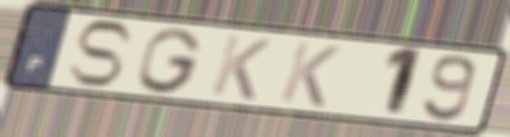1: (378, 45, 425, 122)
9: (422, 53, 479, 122)
G: (135, 25, 207, 95)
K: (206, 31, 276, 103), (276, 38, 345, 110)
S: (64, 18, 137, 89)
